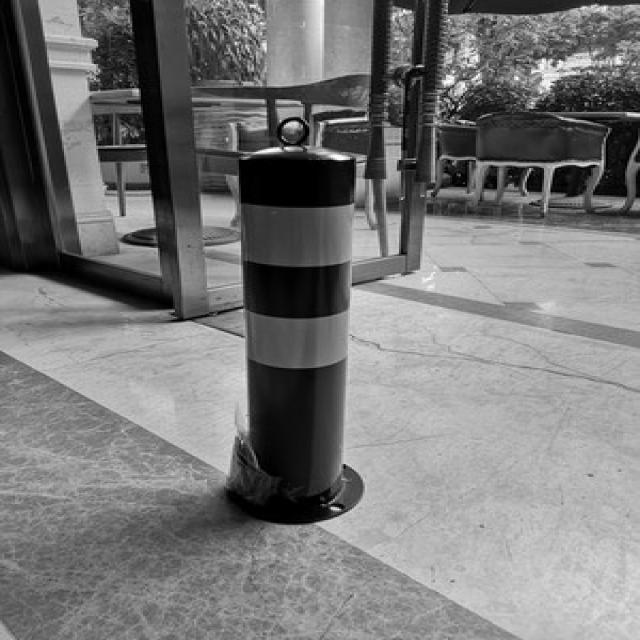warning_column: (215, 114, 362, 518)
